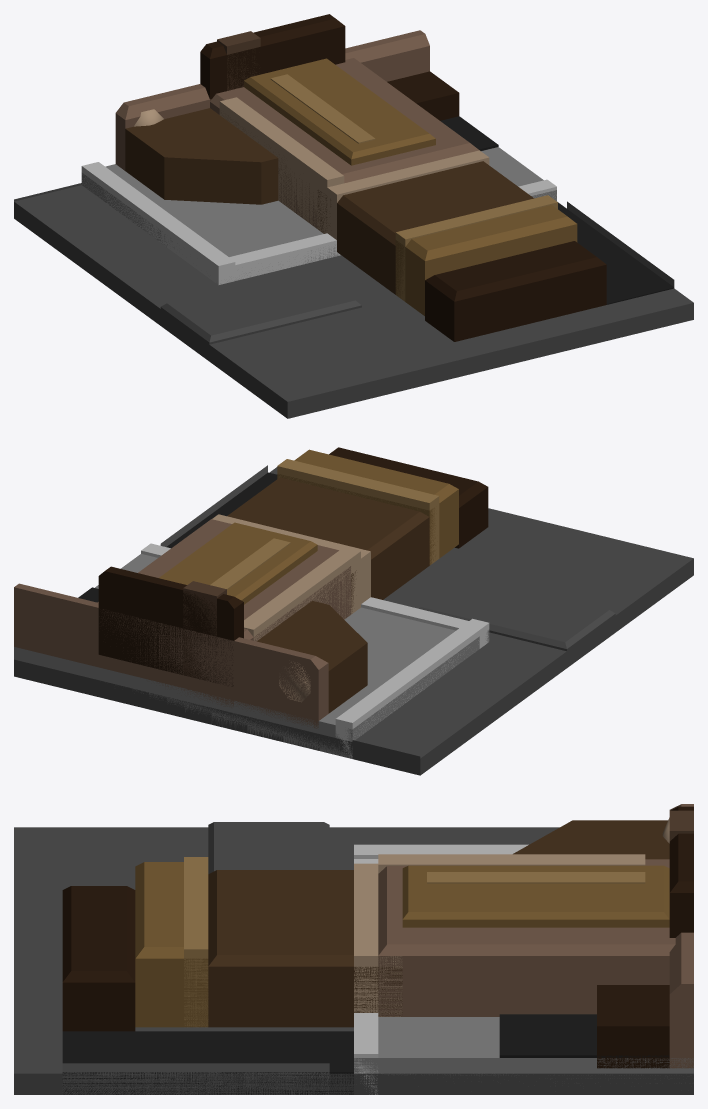
Rendered from newshp-267.glb.
The picture shows the model from 3 angles, top to bottom: view 1: azimuth 30°, elevation 25°; view 2: azimuth 150°, elevation 25°; view 3: azimuth 270°, elevation 25°; orthographic projection. The views are drawn at different scales.
Parts seen in each view (by area): view 1: newshp-267; view 2: newshp-267; view 3: newshp-267.
Boxes of the visible parts, x1,y1,x2,y2 form: newshp-267: (14, 14, 693, 418); newshp-267: (14, 447, 693, 775); newshp-267: (14, 804, 693, 1094).
Size of the model in its own units: 2 by 0.61 by 2.33.
